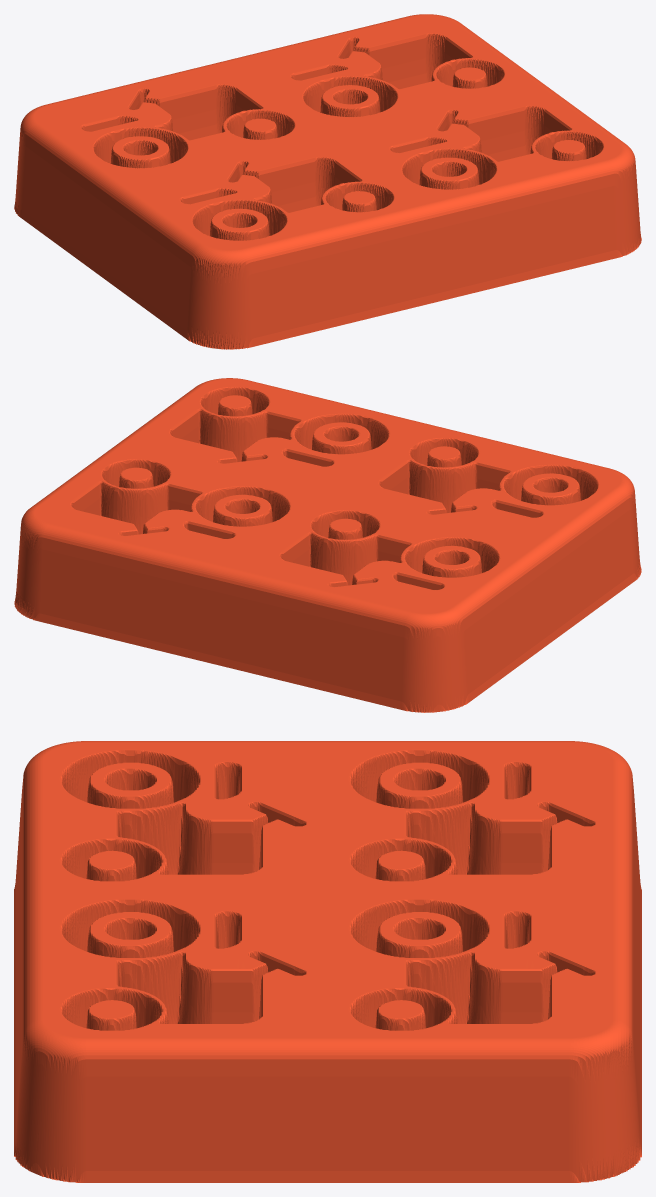
The model's file is mold.glb.
3 renders of one model, top to bottom at view 1: azimuth 30°, elevation 25°; view 2: azimuth 150°, elevation 25°; view 3: azimuth 270°, elevation 25°, orthographic. The views are drawn at different scales.
Parts seen in each view (by area): view 1: geometry_0; view 2: geometry_0; view 3: geometry_0.
Part boxes in pixels (x1,y1,x2,y2): geometry_0: (14, 14, 641, 349); geometry_0: (14, 378, 641, 712); geometry_0: (14, 741, 641, 1182).
Size of the model in its own units: 0.0942 by 0.0182 by 0.0782.
